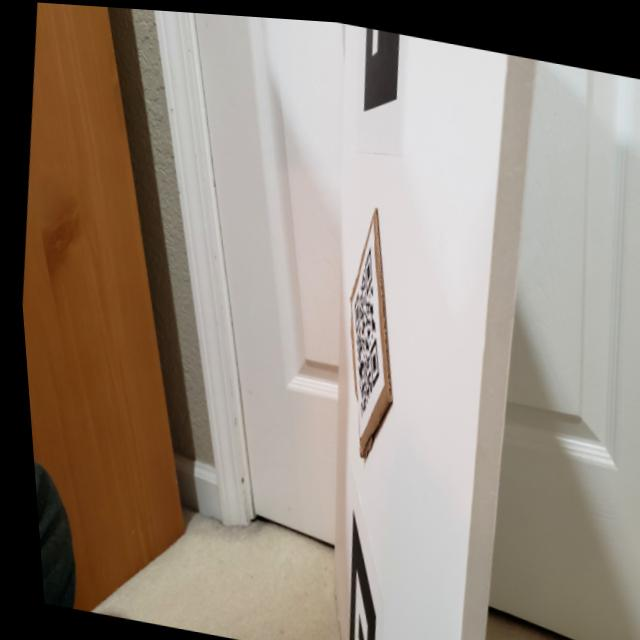QR_CODE: (323, 229, 400, 428)
